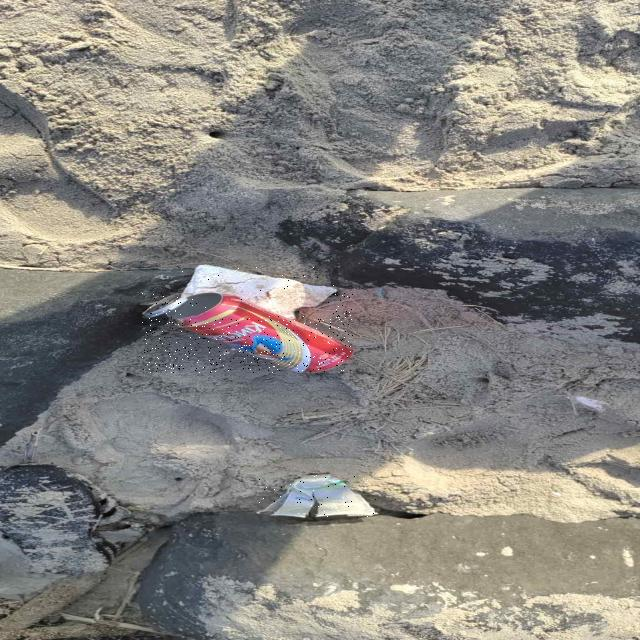metal: (143, 293, 353, 373)
plastic: (260, 475, 376, 518)
styrofoam: (182, 265, 335, 318)
